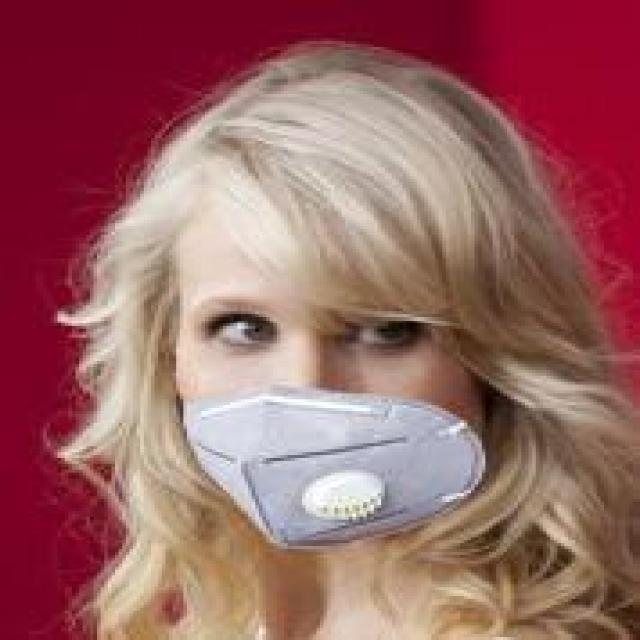mask: (111, 14, 564, 570)
